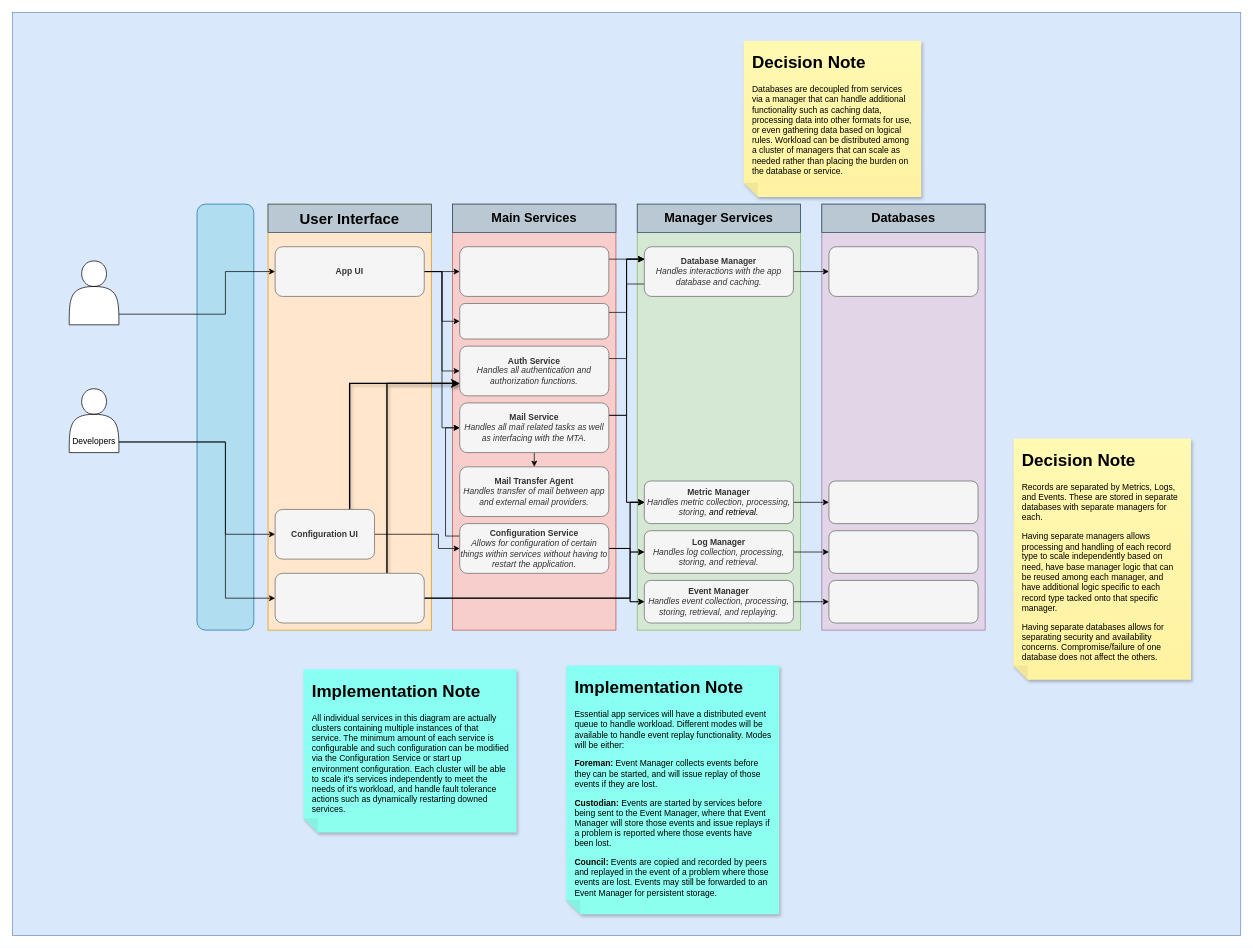
This 1253x948 diagram has some shape labels left out. Each missing label, with the centre of its shape:
"Account Service Handles user account actions." goes at point 534,321.
"App Database Database that stores all application data." goes at point 903,271.
"Event Database Database that stores all events." goes at point 903,601.
"Ingress Controller" goes at point 225,416.
"Log Database Database that stores all logs." goes at point 903,551.
"Metric Database Database that stores all metrics." goes at point 903,502.
"Records UI (Events, Logs, Metrics)" goes at point 349,598.
"Security Service Handles encryption/decryption tasks & monitors security events." goes at point 534,271.
"Users" goes at point 94,292.
